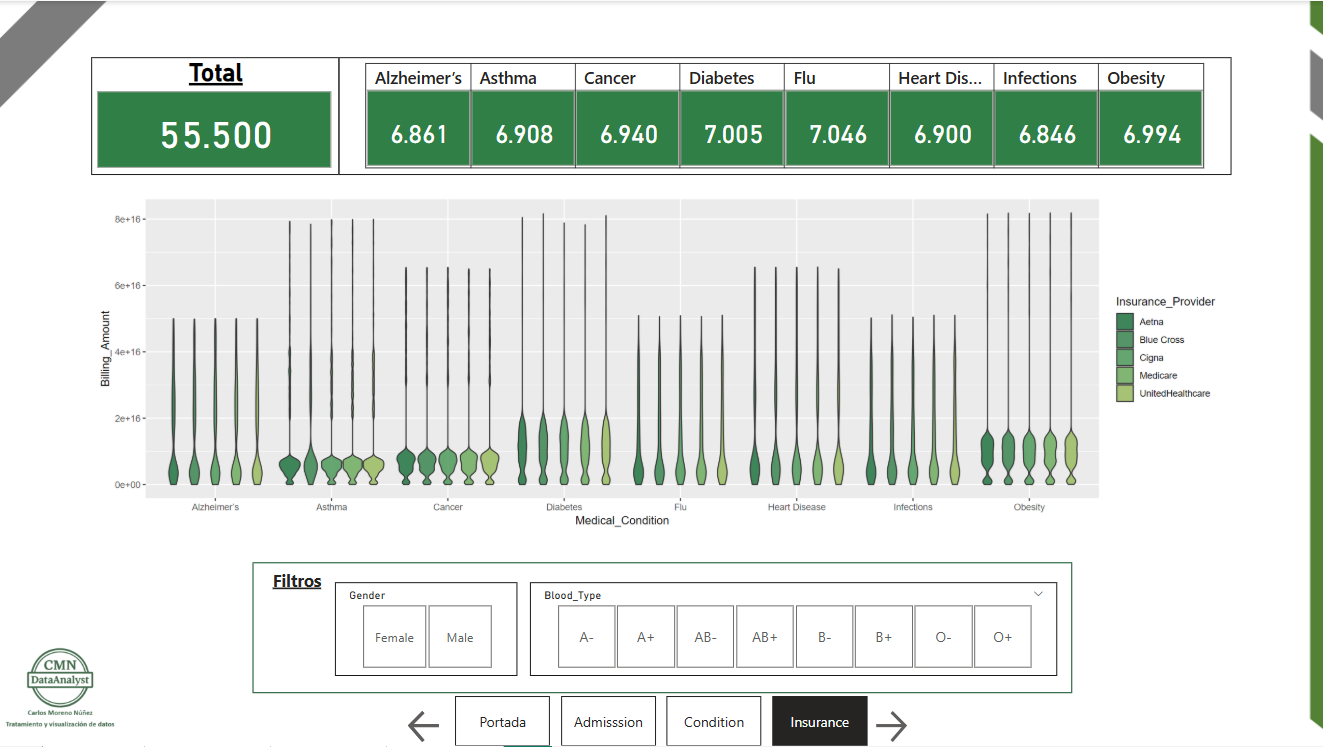

The dashboard page shown, as its layout file describes it:
{"tool":"powerbi","page":{"name":"Insurance","canvas":[1280,720],"ordinal":3},"visuals":[{"type":"image","box":[0,604.4,115.8,115.8],"z":0},{"type":"actionButton","box":[839.7,681,49.5,39.8],"z":1000},{"type":"actionButton","box":[389.7,681,49.5,39.8],"z":2000},{"type":"cardVisual","title":"Total","fields":{"Data":["CountNonNull(modified_healthcare_dataset.Name)"]},"box":[88.1,54.5,238.9,113.4],"z":3000},{"type":"cardVisual","fields":{"Data":["CountNonNull(modified_healthcare_dataset.Medical_Condition)"],"Rows":["modified_healthcare_dataset.Medical_Condition"]},"box":[326.9,54.5,861.4,113.4],"z":4000},{"type":"pageNavigator","box":[439.1,670.5,400.5,49.5],"z":5000},{"type":"actionButton","box":[389.7,680.2,49.5,39.8],"z":6000},{"type":"scriptVisual","fields":{"Values":["modified_healthcare_dataset.Gender","modified_healthcare_dataset.Blood_Type","modified_healthcare_dataset.Billing_Amount","modified_healthcare_dataset.Insurance_Provider","modified_healthcare_dataset.Medical_Condition"]},"box":[87,180.4,1101.5,337.7],"z":7000},{"type":"shape","box":[243.7,541.9,791.4,126.7],"z":7500},{"type":"textbox","box":[258.2,542.6,68.8,37.4],"z":8000},{"type":"slicer","fields":{"Values":["modified_healthcare_dataset.Gender"]},"box":[323.3,561.2,176.1,90.5],"z":10000},{"type":"slicer","fields":{"Values":["modified_healthcare_dataset.Blood_Type"]},"box":[511.5,561.2,509.1,90.5],"z":11000}]}

Visuals, with their boxes in screenshot pixels (x1, y1, x2, y2), scaled from the page's 1280x720 canvas onto the 1323x747 screenshot:
image: box(0, 627, 120, 746)
actionButton: box(868, 707, 919, 746)
actionButton: box(403, 707, 454, 746)
"Total" cardVisual: box(91, 57, 338, 174)
cardVisual - CountNonNull(modified_healthcare_dataset.Medical_Condition) x modified_healthcare_dataset.Medical_Condition: box(338, 57, 1228, 174)
pageNavigator: box(454, 696, 868, 746)
actionButton: box(403, 706, 454, 746)
scriptVisual - modified_healthcare_dataset.Gender x modified_healthcare_dataset.Blood_Type: box(90, 187, 1228, 538)
shape: box(252, 562, 1070, 694)
textbox: box(267, 563, 338, 602)
slicer - modified_healthcare_dataset.Gender: box(334, 582, 516, 676)
slicer - modified_healthcare_dataset.Blood_Type: box(529, 582, 1055, 676)
